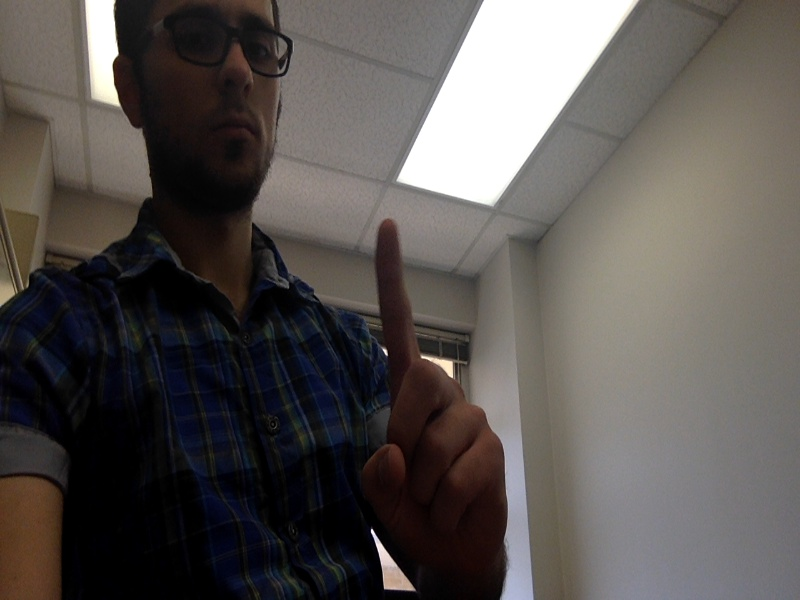1-hand: (368, 220, 516, 582)
